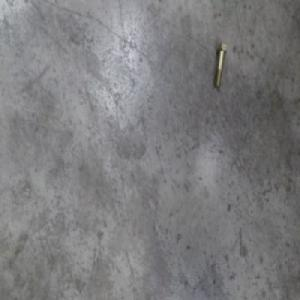Bolt: (213, 43, 227, 89)
